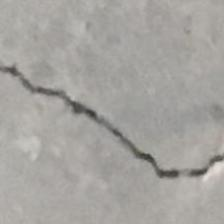Crack: (0, 58, 224, 185)
